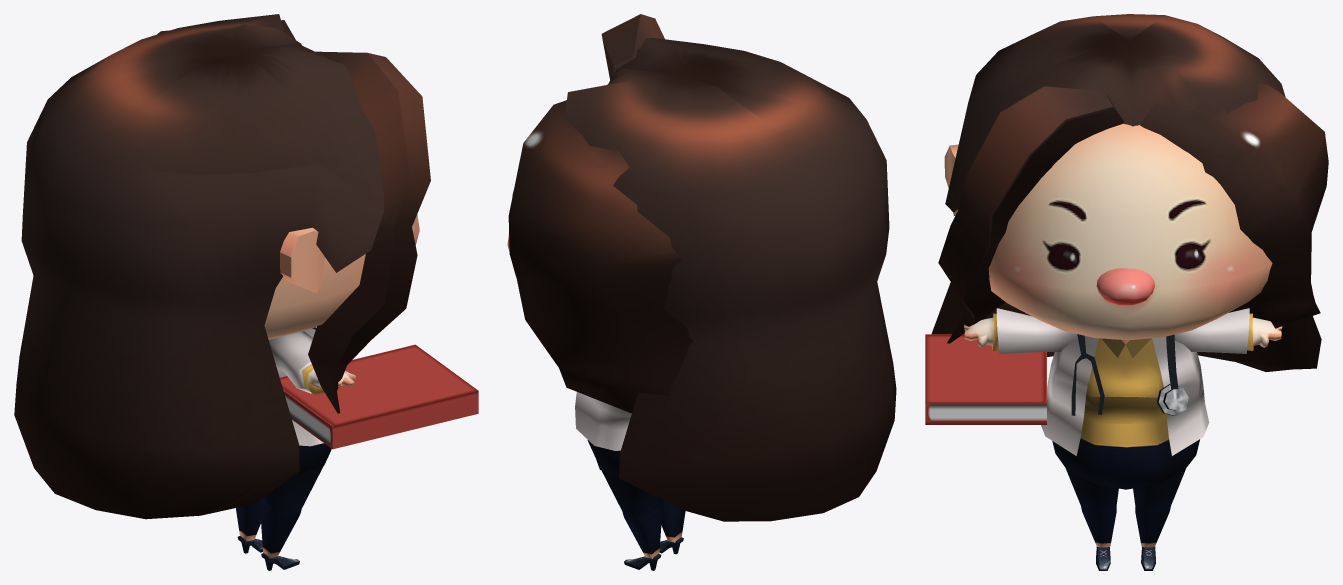
The model's file is Char_Sci_HS_06.fbx.
The picture shows the model from 3 angles, left to right: view 1: azimuth 30°, elevation 25°; view 2: azimuth 150°, elevation 25°; view 3: azimuth 270°, elevation 25°; orthographic projection. The views are drawn at different scales.
Visible parts, largest first — view 1: Hair_DOHS, Book_DOHS, Head_DOHS, R_Leg_DOHS, R_Ear_DOHS, R_Arm_DOHS, L_Leg_DOHS, Body_DOHS; view 2: Hair_DOHS, L_Leg_DOHS, Vest_DOHS, R_Leg_DOHS, Body_DOHS; view 3: Hair_DOHS, Head_DOHS, Body_DOHS, Book_DOHS, Vest_DOHS, R_Arm_DOHS, L_Arm_DOHS, R_Leg_DOHS, L_Leg_DOHS, Stethoscope_DOHS, Nose_DOHS, Collar_DOHS.
Part boxes in pixels (box(x1,y1,x2,y2)): Hair_DOHS: box(14, 14, 430, 519); Book_DOHS: box(280, 344, 478, 449); Head_DOHS: box(264, 214, 419, 339); R_Leg_DOHS: box(259, 463, 324, 570); R_Ear_DOHS: box(280, 227, 324, 293); R_Arm_DOHS: box(268, 331, 356, 394); L_Leg_DOHS: box(236, 500, 262, 553); Body_DOHS: box(298, 443, 331, 473); Hair_DOHS: box(508, 14, 896, 521); L_Leg_DOHS: box(600, 467, 663, 570); Vest_DOHS: box(575, 392, 631, 450); R_Leg_DOHS: box(659, 500, 685, 554); Body_DOHS: box(587, 440, 620, 476); Hair_DOHS: box(931, 14, 1328, 371); Head_DOHS: box(988, 123, 1272, 340); Body_DOHS: box(1052, 338, 1199, 489); Book_DOHS: box(925, 334, 1046, 424); Vest_DOHS: box(1041, 336, 1209, 455); R_Arm_DOHS: box(964, 308, 1085, 353); L_Arm_DOHS: box(1174, 308, 1282, 353); R_Leg_DOHS: box(1065, 467, 1118, 570); L_Leg_DOHS: box(1133, 466, 1186, 570); Stethoscope_DOHS: box(1071, 334, 1188, 415); Nose_DOHS: box(1096, 268, 1154, 305); Collar_DOHS: box(1101, 338, 1151, 358).
Size of the model in its own units: 5.08 by 6.85 by 4.97.
